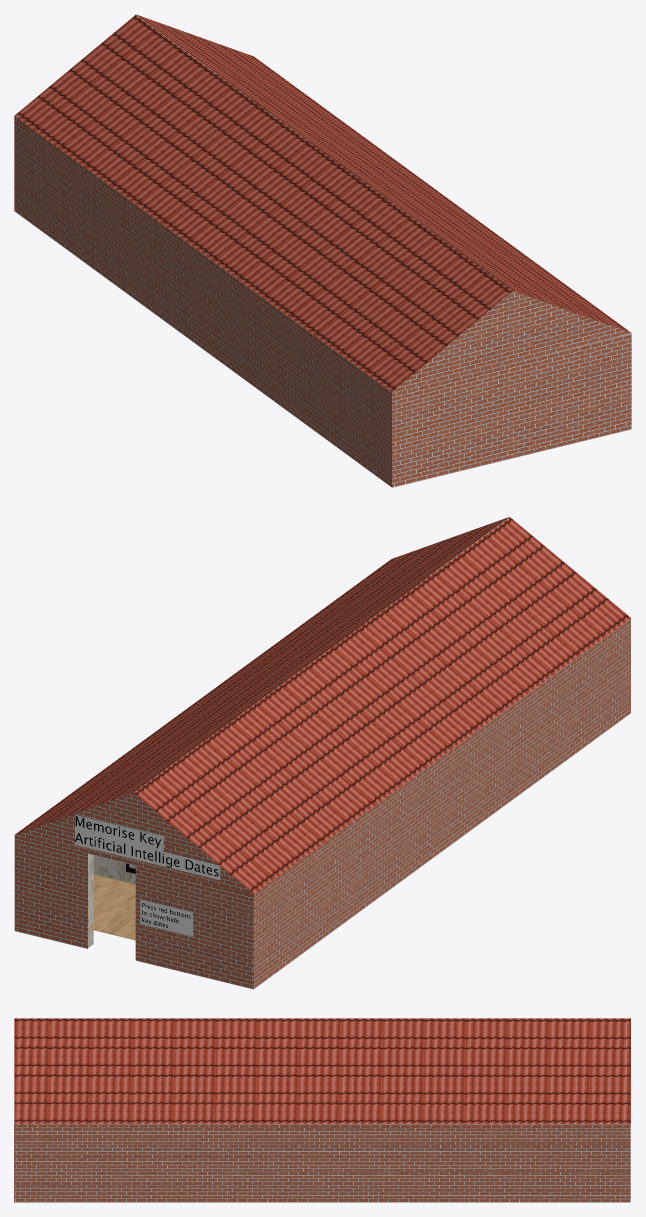
The model's file is walls_129.gltf.
3 views of the same model, one above another, from view 1: azimuth 30°, elevation 25°; view 2: azimuth 150°, elevation 25°; view 3: azimuth 270°, elevation 25° (orthographic). The views are drawn at different scales.
Visible parts, largest first — view 1: polySurface4270; view 2: polySurface4270, pCube268, polySurface4232, walls_121, pCube269, typeMesh46; view 3: polySurface4270.
Part boxes in pixels (left/top/right/bottom): polySurface4270: left=14, top=14, right=631, bottom=487; polySurface4270: left=14, top=517, right=631, bottom=989; pCube268: left=75, top=815, right=220, bottom=880; polySurface4232: left=88, top=874, right=135, bottom=940; walls_121: left=88, top=576, right=428, bottom=947; pCube269: left=140, top=900, right=192, bottom=936; typeMesh46: left=75, top=816, right=218, bottom=876; polySurface4270: left=14, top=1018, right=630, bottom=1202.
Size of what is drawn, in the model's own units: 15.98 by 10.69 by 43.48.
Materials: 15 (11 with a texture image).
